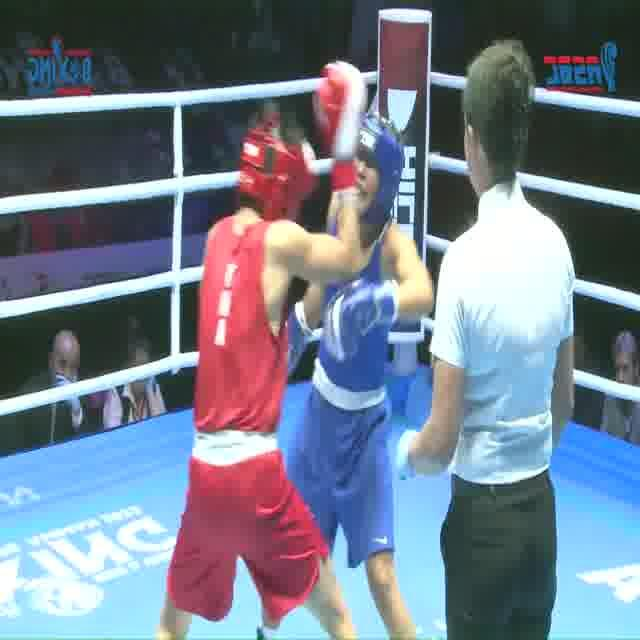blue-player: (251, 106, 437, 640)
red-player: (152, 53, 373, 640)
referee: (395, 37, 578, 640)
